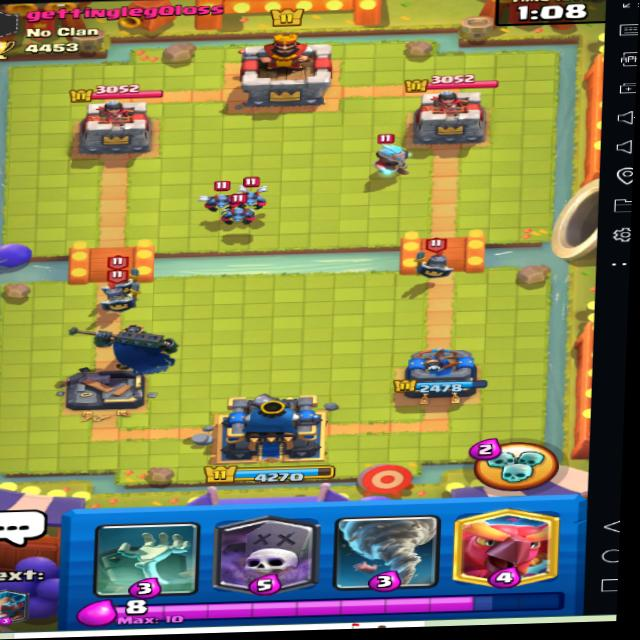guards: (405, 236, 470, 289), (89, 272, 146, 316), (100, 254, 139, 290)
ice-wizard: (361, 129, 433, 183)
minion: (227, 177, 289, 217), (216, 197, 266, 232), (202, 178, 246, 212)
